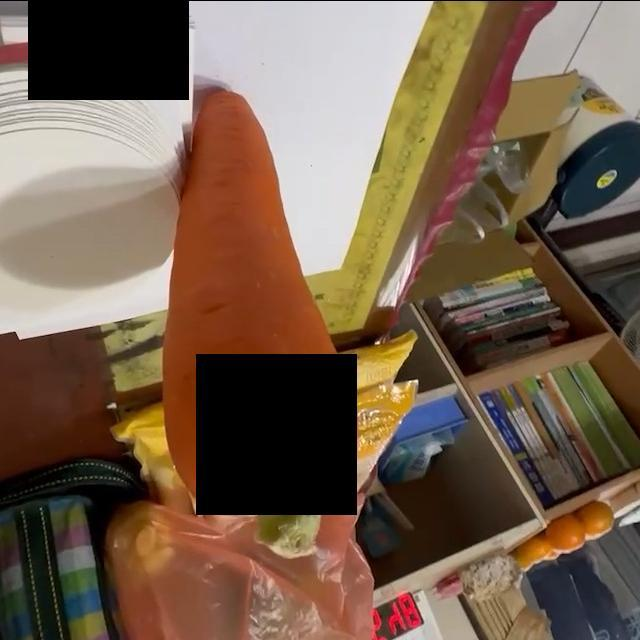carrot: (161, 88, 357, 557)
